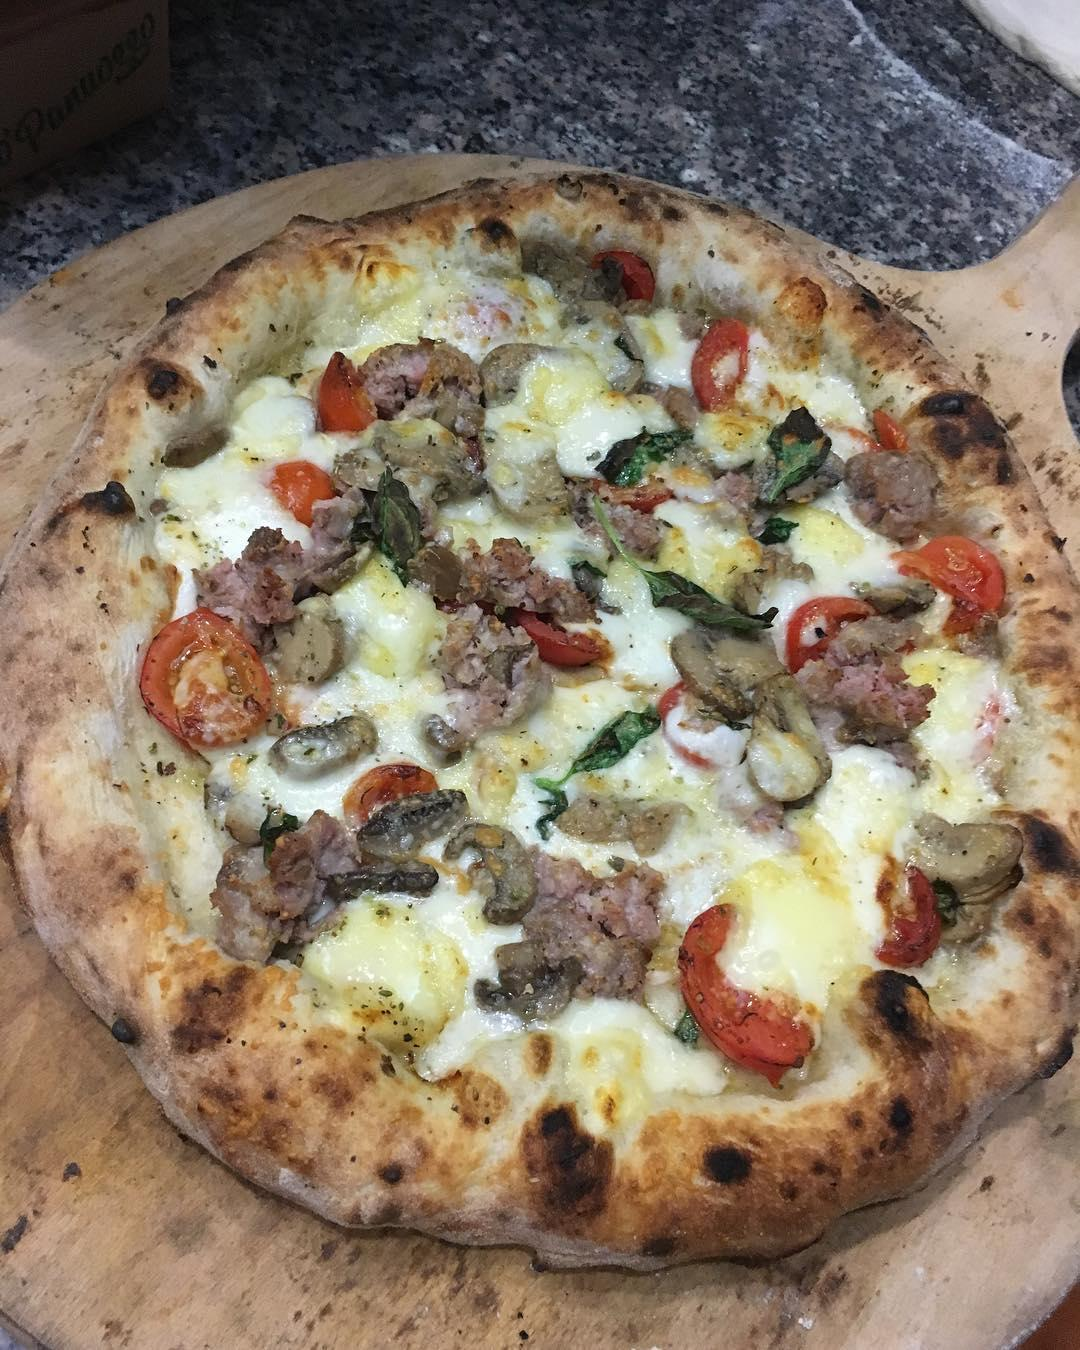Basil: (647, 568, 771, 635), (562, 710, 652, 777), (758, 420, 830, 500), (370, 475, 424, 577), (594, 431, 694, 482)
Mushroom: (898, 799, 1027, 951), (737, 682, 835, 804), (657, 620, 793, 706), (468, 939, 592, 1026), (446, 820, 544, 929), (356, 774, 476, 857), (252, 592, 353, 689), (514, 237, 626, 307), (475, 331, 573, 409), (273, 708, 381, 776), (404, 534, 475, 616), (328, 851, 436, 899), (850, 574, 942, 616)
Pizza: (0, 174, 1080, 1270)
Tomatoes: (677, 900, 818, 1067), (142, 605, 274, 750), (895, 529, 1008, 618), (873, 861, 944, 968), (691, 309, 754, 415), (339, 762, 440, 828), (782, 597, 877, 666), (654, 679, 719, 770), (519, 606, 606, 670), (313, 352, 378, 435), (267, 458, 338, 527), (593, 246, 659, 313)
